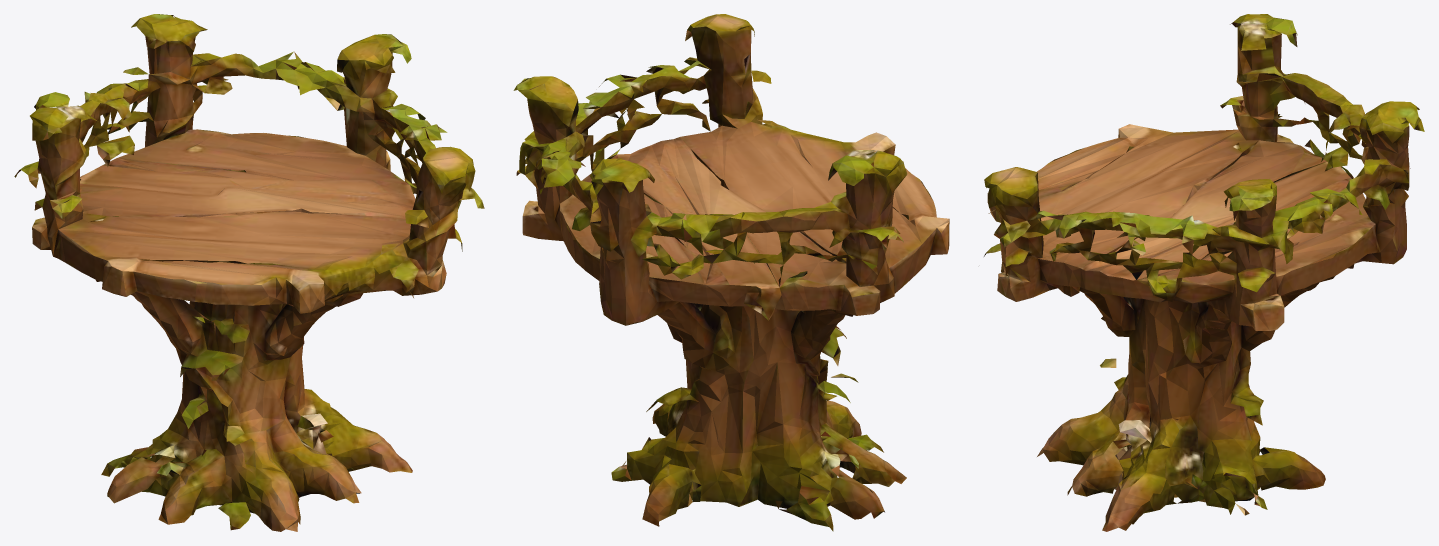
File: fairy_dragonfly_dock_1117.glb
The picture shows the model from 3 angles, left to right: view 1: azimuth 30°, elevation 25°; view 2: azimuth 150°, elevation 25°; view 3: azimuth 270°, elevation 25°; orthographic projection. The views are drawn at different scales.
Visible parts, largest first — view 1: geometry_0; view 2: geometry_0; view 3: geometry_0.
Boxes of the visible parts, bbox=[...] form: geometry_0: bbox=[14, 14, 484, 531]; geometry_0: bbox=[513, 14, 949, 531]; geometry_0: bbox=[984, 14, 1424, 531].
Bounding box in the file's own units: 1.03 × 1 × 1.07.
1 material, 1 textured.
